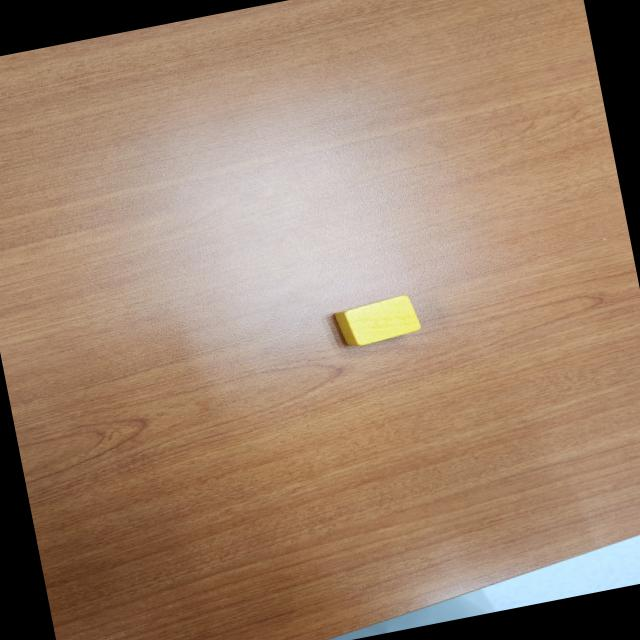yellow: (331, 292, 422, 349)
